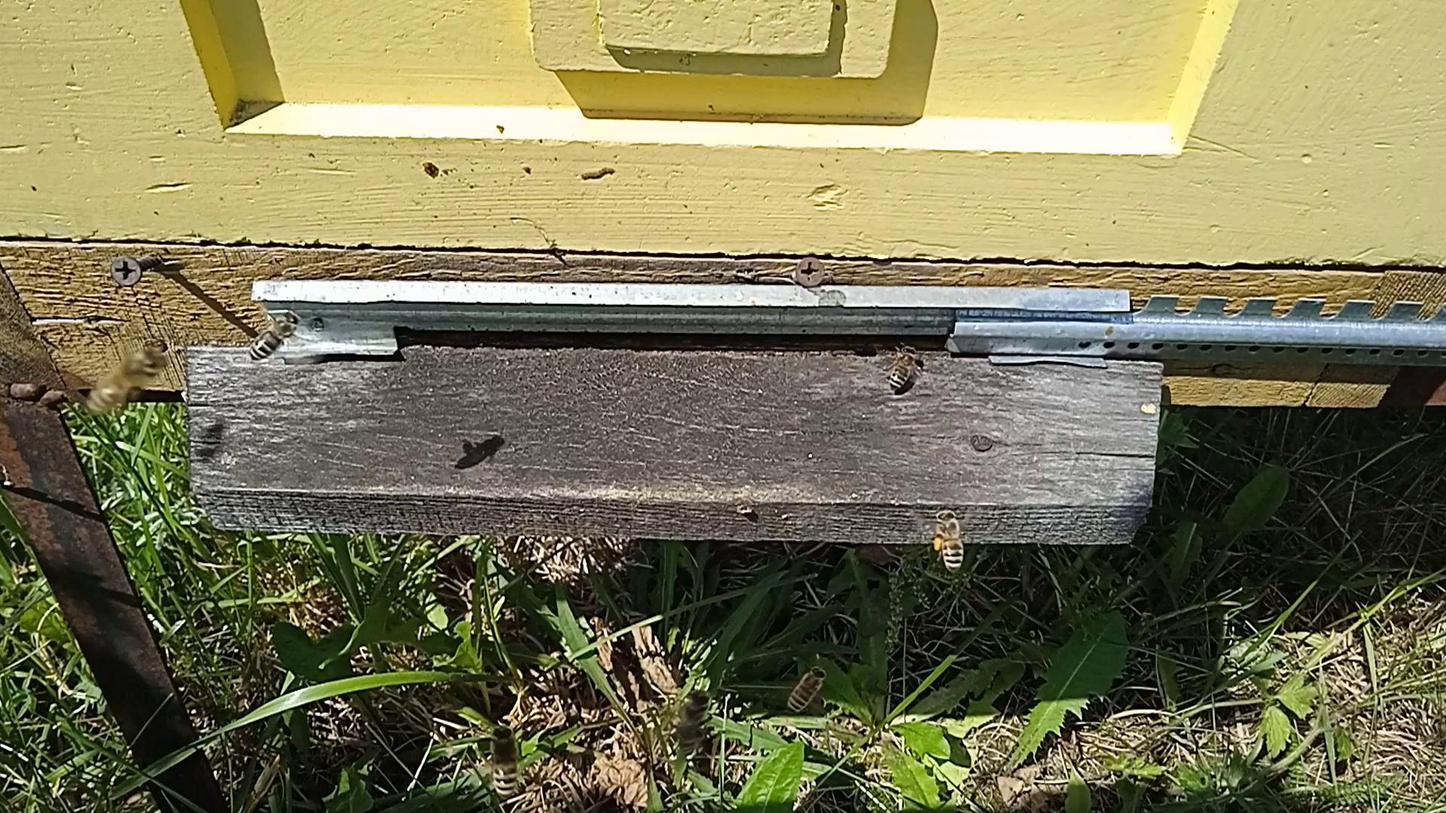worker-bee: (88, 339, 171, 413), (249, 311, 302, 360), (675, 690, 712, 760), (490, 725, 522, 801), (932, 507, 966, 574), (786, 666, 828, 712), (887, 345, 920, 392)
